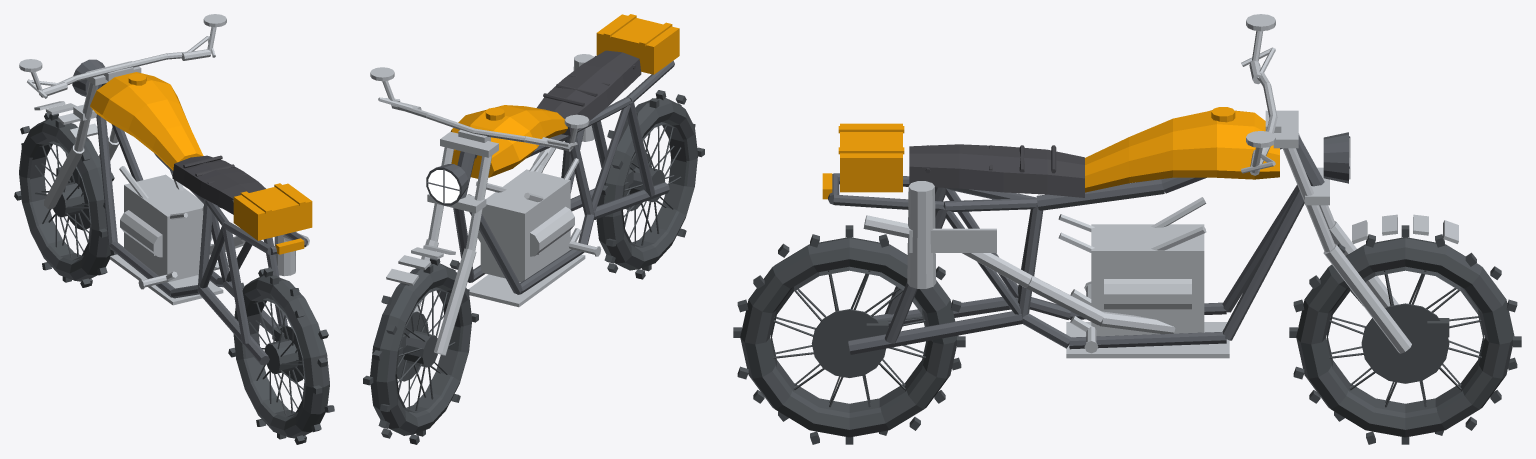
Rendered from courier_bike.glb.
3 renders of one model, left to right at view 1: azimuth 30°, elevation 25°; view 2: azimuth 150°, elevation 25°; view 3: azimuth 270°, elevation 25°, orthographic. The views are drawn at different scales.
Visible parts, largest first — view 1: WheelRear, WheelFront, Frame, Battery, Tank, CargoRack, Seat, FrontFork, Handlebars, SkidPlate, Exhaust, Headlight (+1 smaller); view 2: WheelFront, WheelRear, Frame, Battery, FrontFork, Seat, Tank, CargoRack, Handlebars, SkidPlate, HeadlightLens, Headlight (+2 smaller); view 3: WheelFront, WheelRear, Frame, Battery, Tank, Exhaust, Seat, FrontFork, CargoRack, Handlebars, SkidPlate, Headlight.
Boxes of the visible parts, x1,y1,x2,y2 form: WheelRear: [228, 267, 334, 444]; WheelFront: [14, 112, 116, 287]; Frame: [96, 83, 307, 365]; Battery: [119, 166, 212, 282]; Tank: [90, 72, 203, 170]; CargoRack: [233, 183, 312, 254]; Seat: [172, 155, 265, 214]; FrontFork: [34, 61, 141, 209]; Handlebars: [19, 14, 226, 98]; SkidPlate: [110, 254, 223, 305]; Exhaust: [209, 231, 309, 276]; Headlight: [72, 59, 104, 96]; WheelFront: [363, 258, 478, 444]; WheelRear: [595, 90, 704, 279]; Frame: [453, 60, 674, 294]; Battery: [476, 150, 579, 281]; FrontFork: [386, 131, 498, 355]; Seat: [537, 50, 641, 135]; Tank: [451, 105, 567, 178]; CargoRack: [596, 14, 679, 74]; Handlebars: [370, 67, 589, 151]; SkidPlate: [468, 254, 585, 307]; HeadlightLens: [428, 170, 459, 203]; Headlight: [426, 164, 468, 205]; WheelFront: [1289, 225, 1521, 444]; WheelRear: [733, 225, 965, 444]; Frame: [828, 135, 1324, 354]; Battery: [1058, 197, 1206, 336]; Tank: [1085, 107, 1279, 192]; Exhaust: [863, 181, 1175, 333]; Seat: [909, 144, 1084, 197]; FrontFork: [1273, 110, 1458, 353]; CargoRack: [822, 123, 904, 199]; Handlebars: [1241, 14, 1281, 175]; SkidPlate: [1066, 322, 1229, 358]; Headlight: [1323, 132, 1350, 183].
Size of the model in its own units: 0.976 by 1.28 by 2.51.
